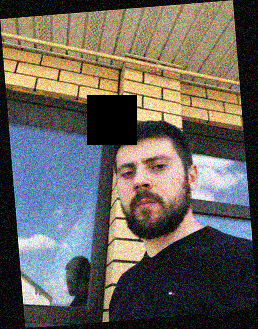without_mask: (118, 150, 188, 237)
